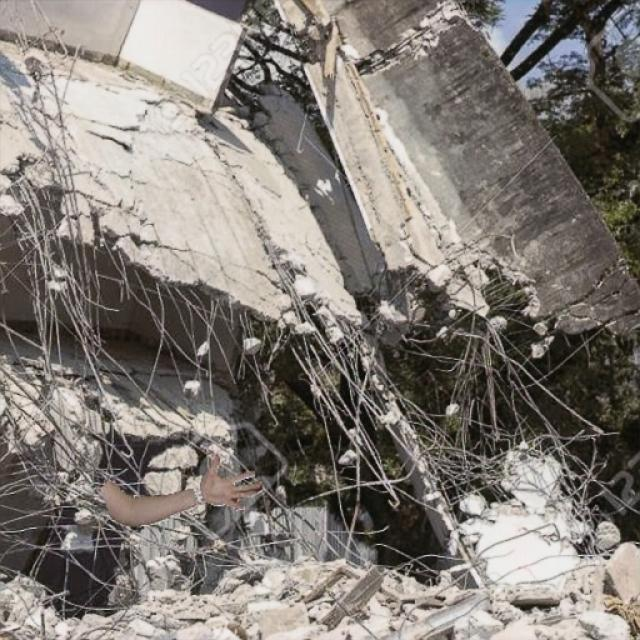Person in Rubble: (100, 453, 261, 528)
